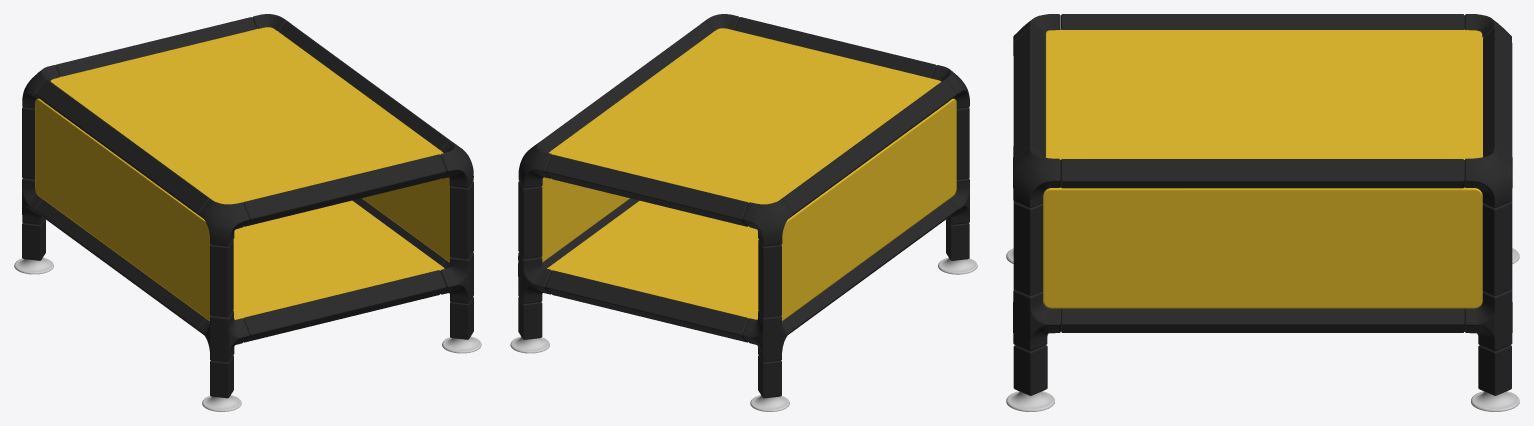
The picture shows the model from 3 angles, left to right: view 1: azimuth 30°, elevation 25°; view 2: azimuth 150°, elevation 25°; view 3: azimuth 270°, elevation 25°; orthographic projection. The views are drawn at different scales.
Parts seen in each view (by area): view 1: 229x329x79; view 2: 229x329x79; view 3: 229x329x79.
Boxes of the visible parts, x1,y1,x2,y2 form: 229x329x79: [14, 14, 481, 411]; 229x329x79: [510, 14, 977, 411]; 229x329x79: [1006, 14, 1519, 411].
Bounding box in the file's own units: 0.3189 × 0.2184 × 0.4182.
